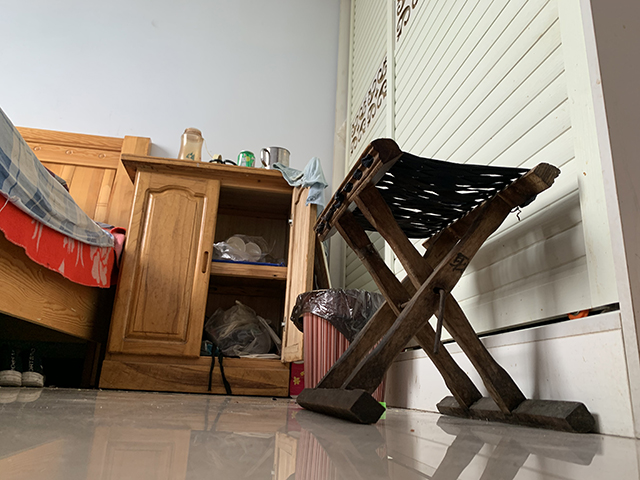bed: (1, 107, 153, 391)
cabinet: (327, 1, 640, 440), (96, 151, 319, 401)
stool: (296, 137, 598, 435)
trashcan: (288, 288, 387, 403)
